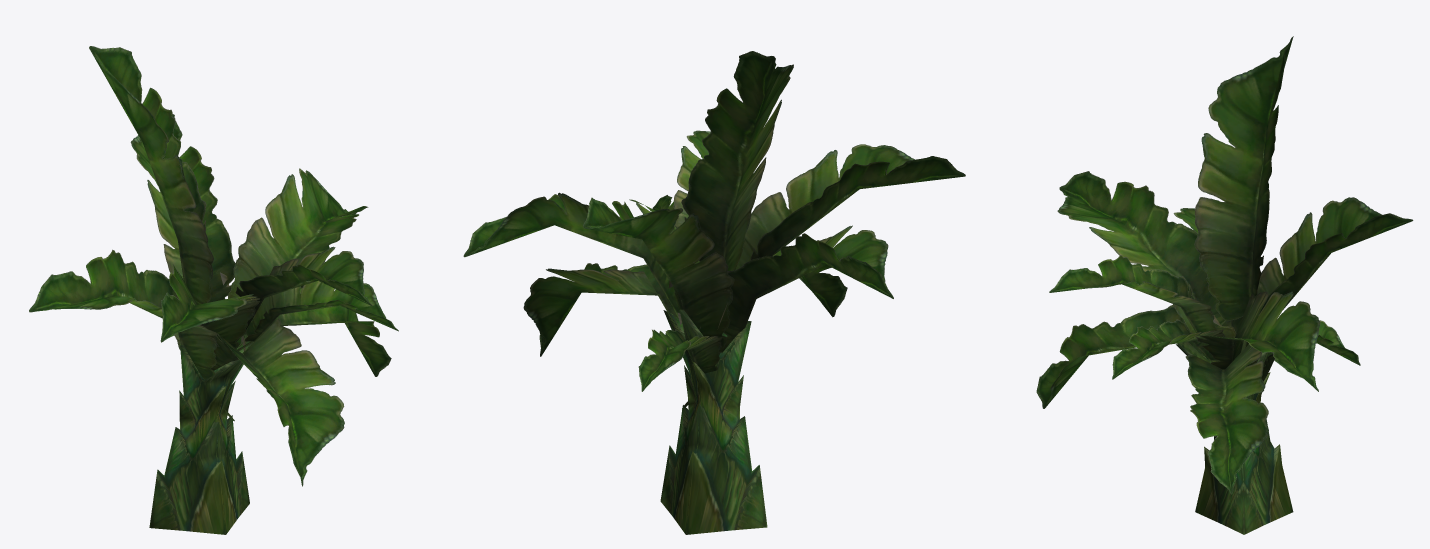
The model's file is sholazarbroadleaf_bush02.obj.
3 renders of one model, left to right at view 1: azimuth 30°, elevation 25°; view 2: azimuth 150°, elevation 25°; view 3: azimuth 270°, elevation 25°, orthographic. The views are drawn at different scales.
Parts seen in each view (by area): view 1: Geoset1, Geoset0; view 2: Geoset1, Geoset0; view 3: Geoset1, Geoset0.
Part boxes in pixels (box(x1,y1,x2,y2)): Geoset1: box(29, 46, 398, 486); Geoset0: box(149, 341, 253, 534); Geoset1: box(463, 51, 965, 409); Geoset0: box(660, 309, 767, 534); Geoset1: box(1036, 36, 1413, 494); Geoset0: box(1176, 344, 1293, 534).
Bounding box in the file's own units: 8.12 × 9.58 × 7.64.
2 materials, 2 textured.
